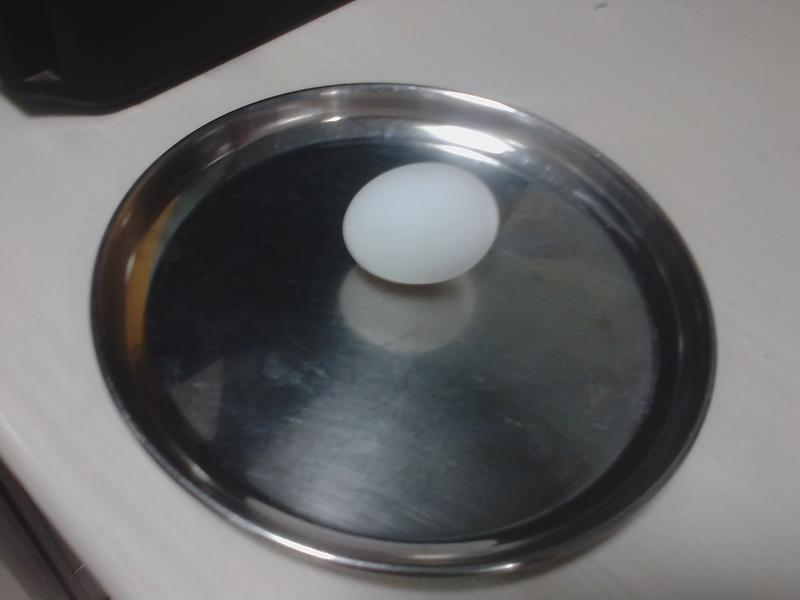egg: (344, 161, 503, 281)
